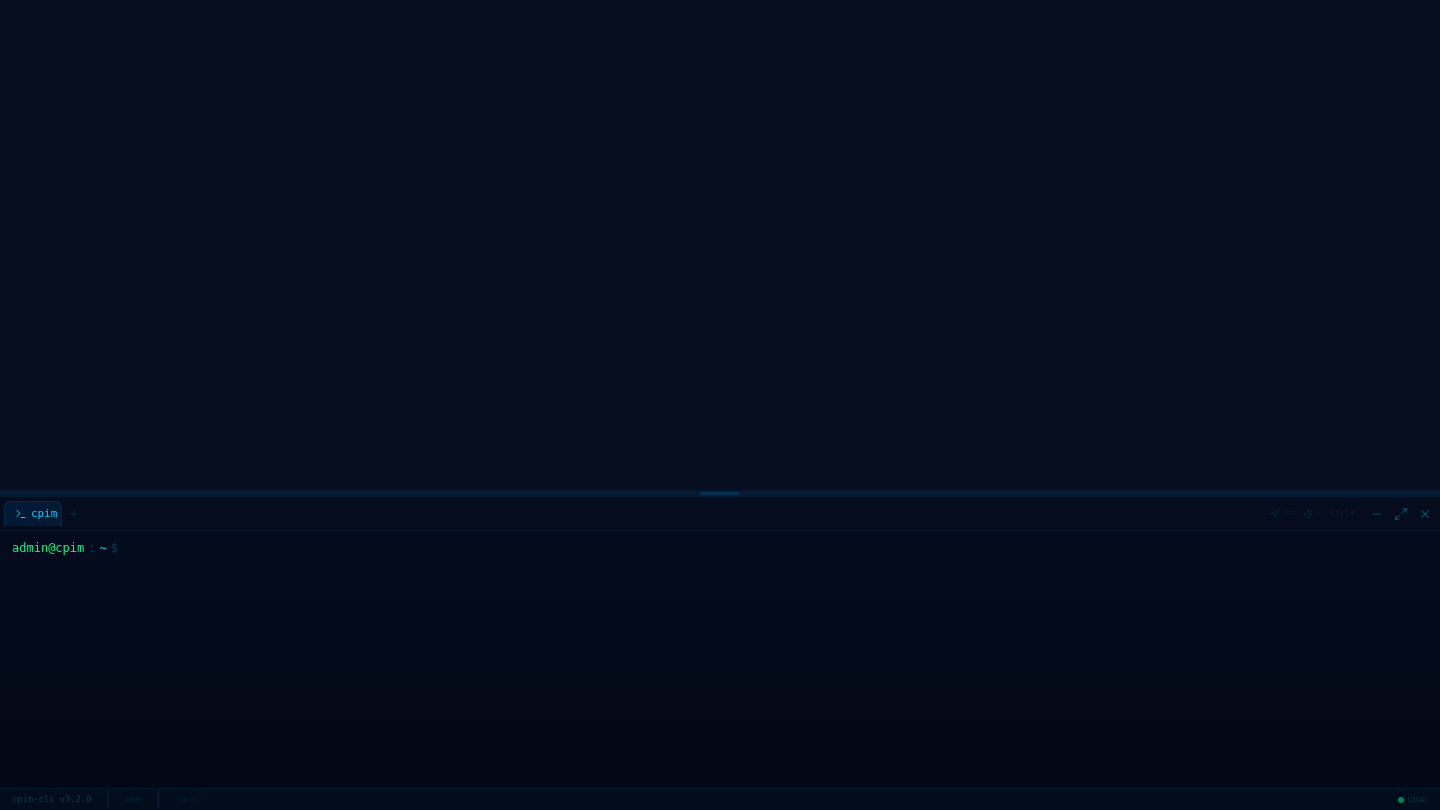
IntegratedTerminal › 窗口控制 › 最大化/还原切换
The image size is (1440, 810).
Click the button titled "最大化" at (1401, 514), box [1390,502,1412,524]
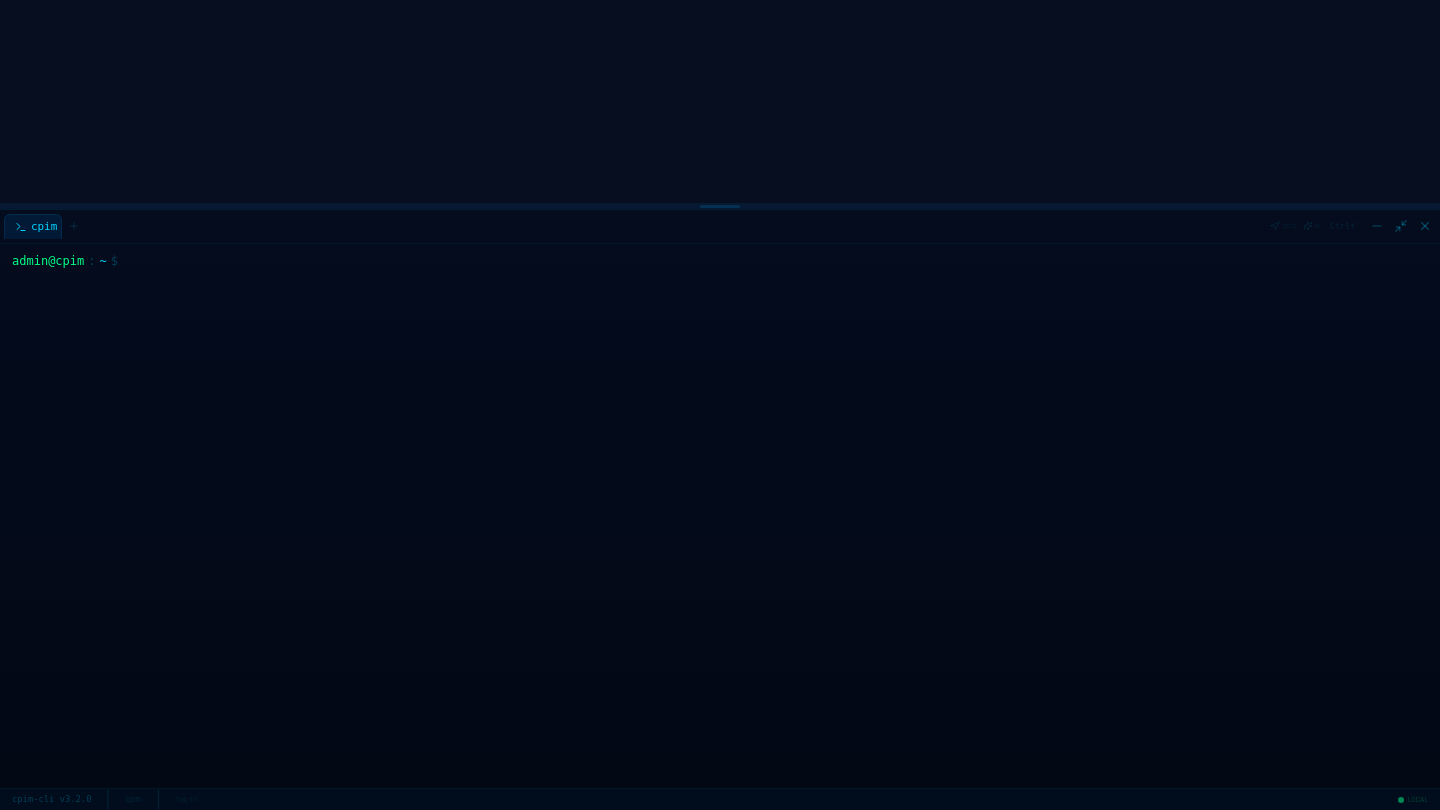
Result: the button titled "还原" is shown
Click the button titled "还原" at (1401, 226), box [1390,215,1412,237]
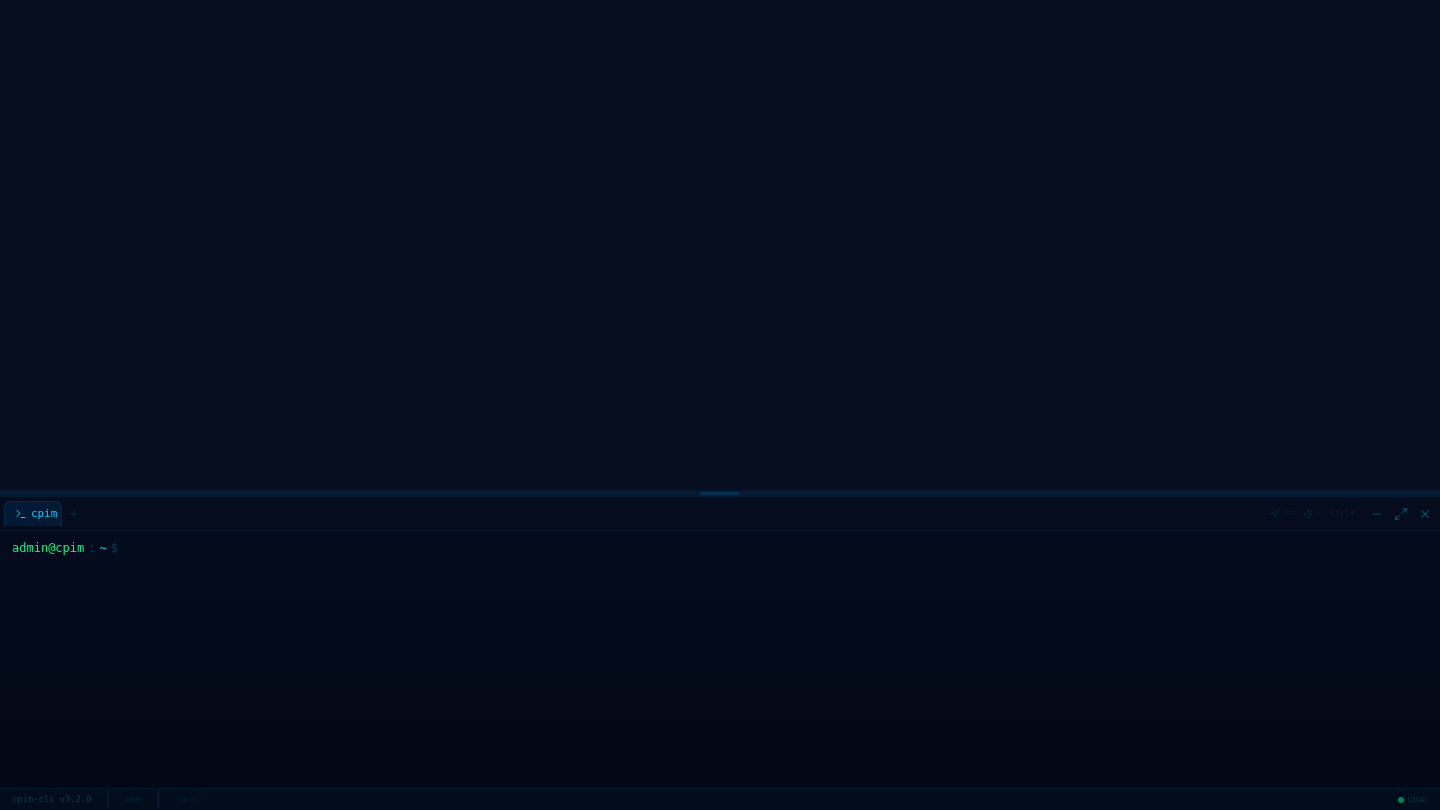
Result: the button titled "最大化" is shown at [1390,502,1412,524]
